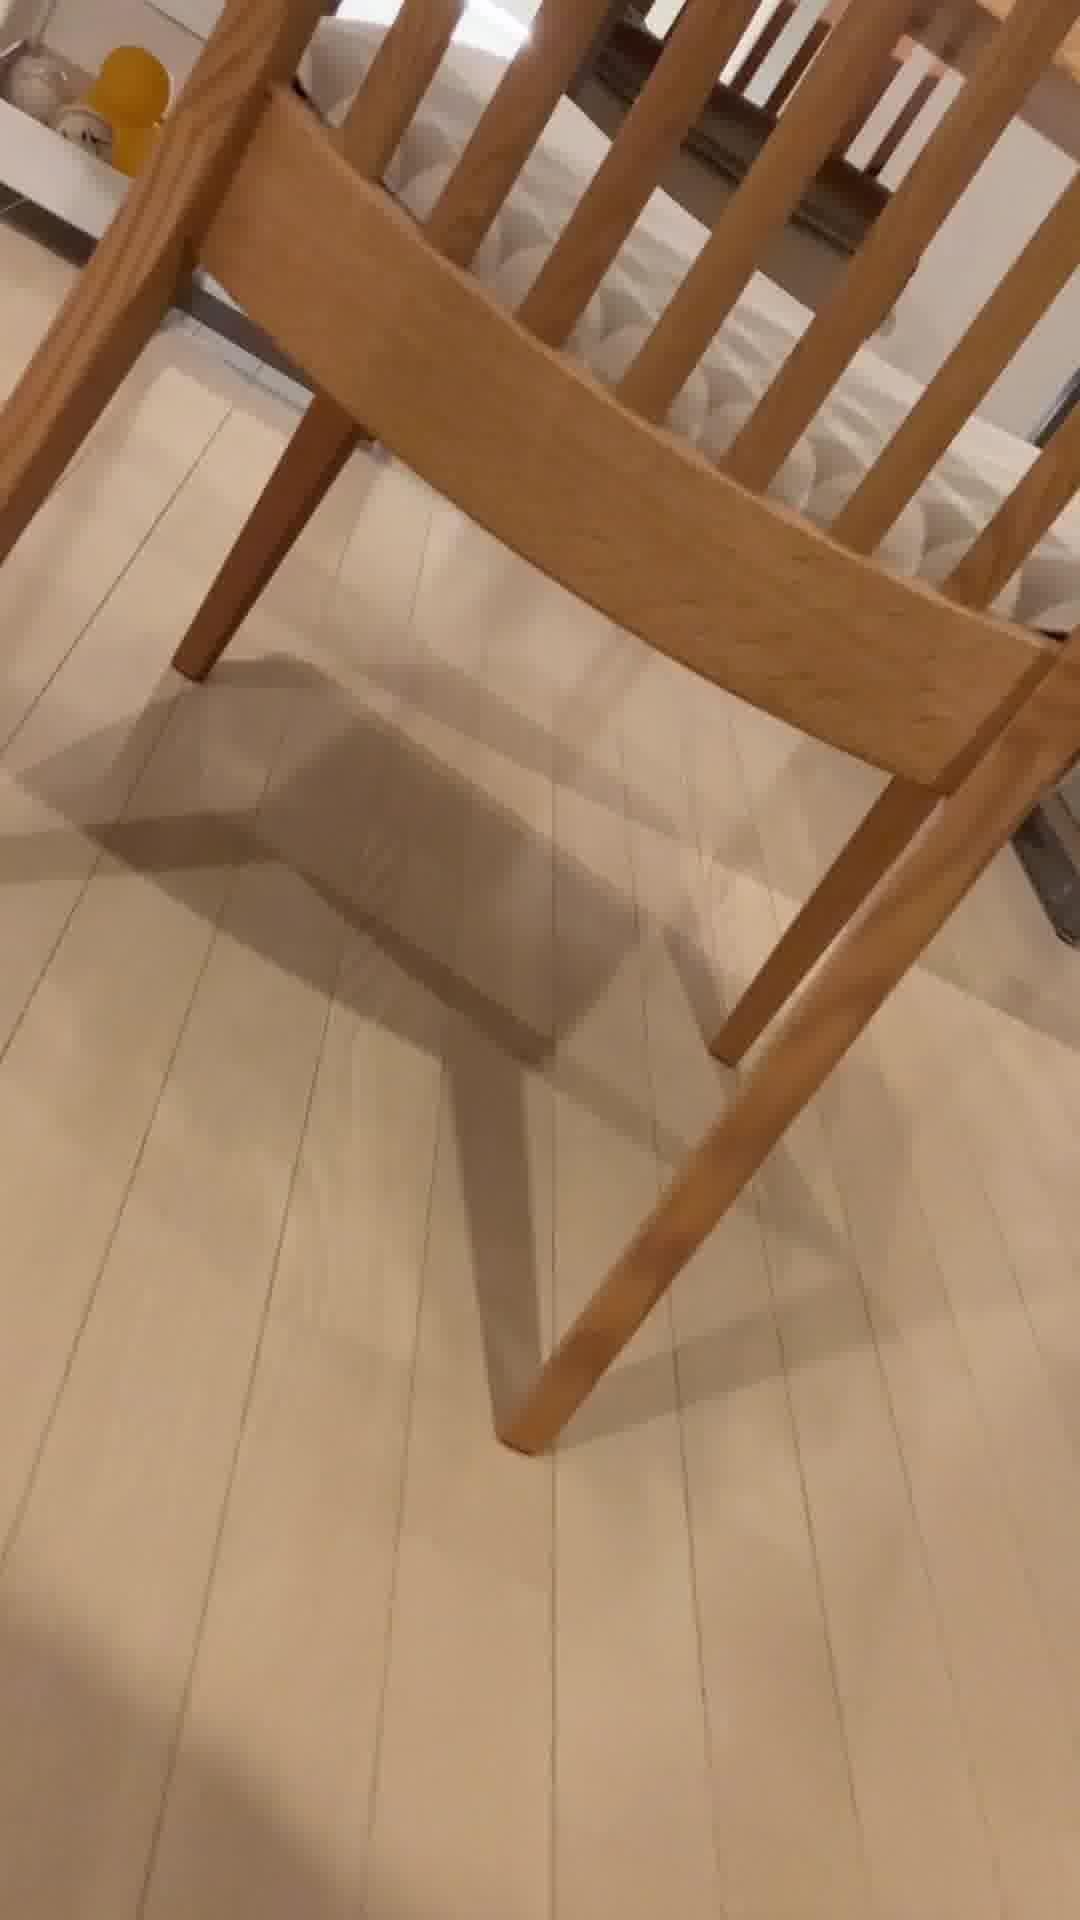takumikan-chair: (0, 0, 1080, 1458)
